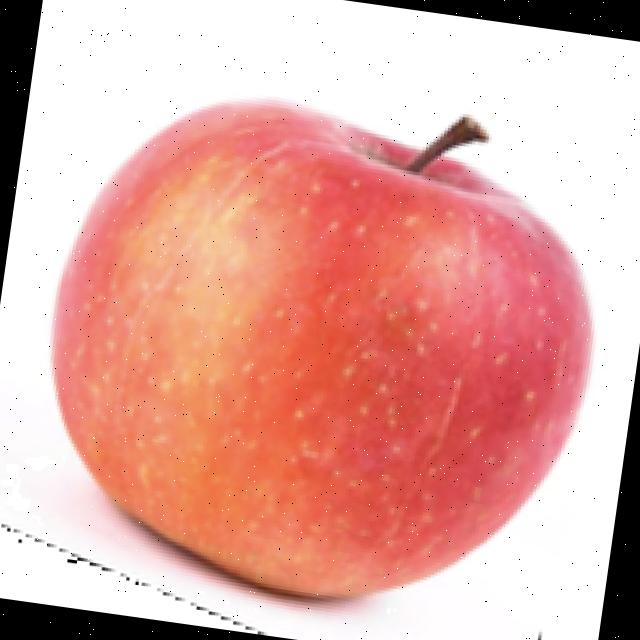apple: (47, 92, 600, 625)
